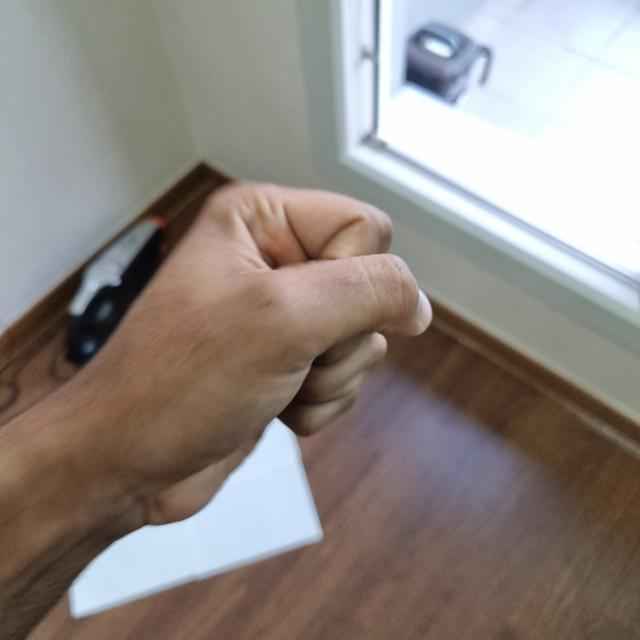Rock: (62, 180, 428, 529)
